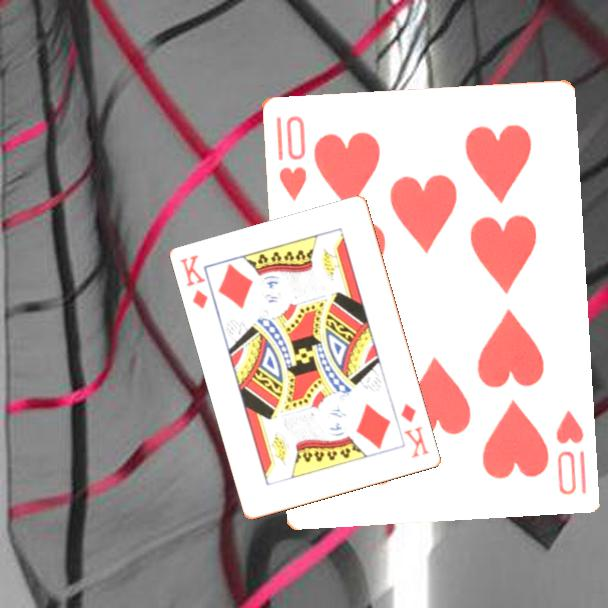d13: (397, 400, 433, 461), (176, 251, 211, 312)
h10: (552, 406, 589, 498), (272, 112, 309, 203)
